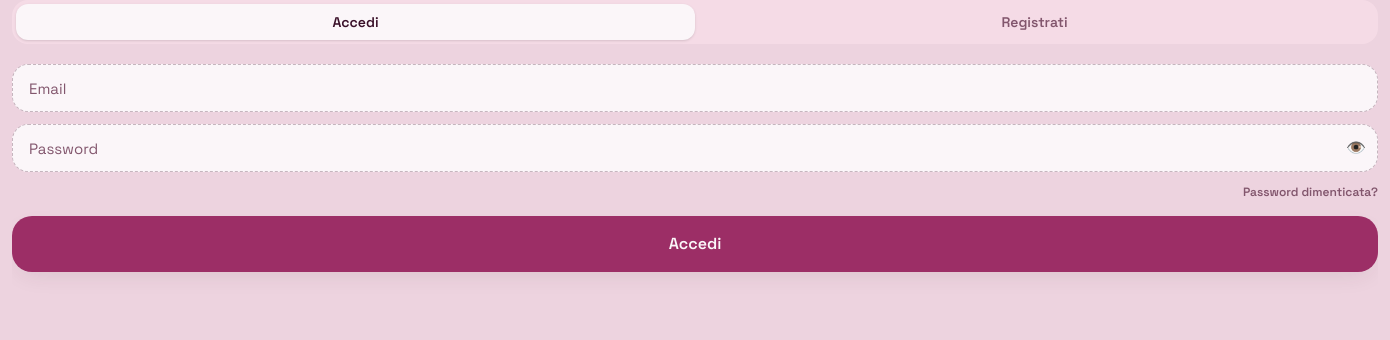
it: LoginForm — registrazione › se NON serve confermare l'email, mostra un messaggio di successo semplice
Click the button "Registrati".
click(1034, 22)  # box [695,4,1374,40]
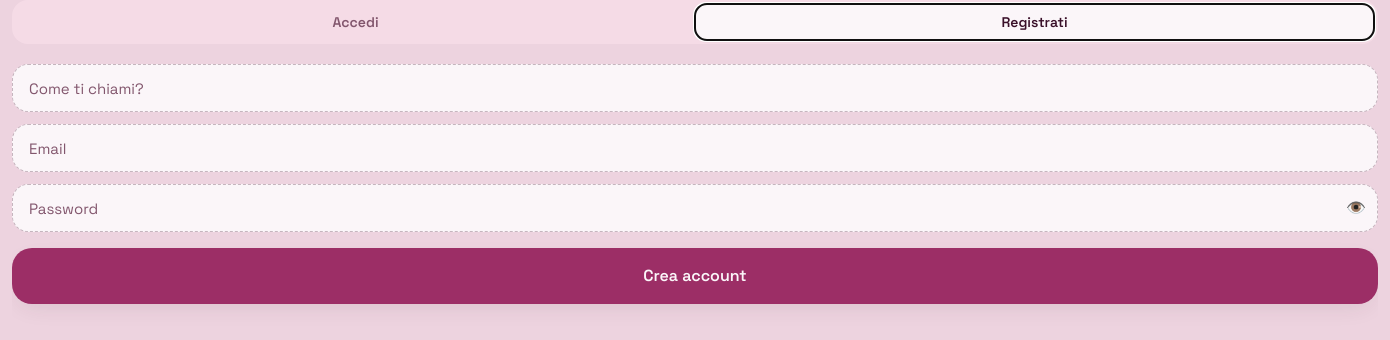
Type "Anna" into the field with placeholder "Come ti chiami?".
click(695, 88); type("Anna")  # box [12,64,1378,112]
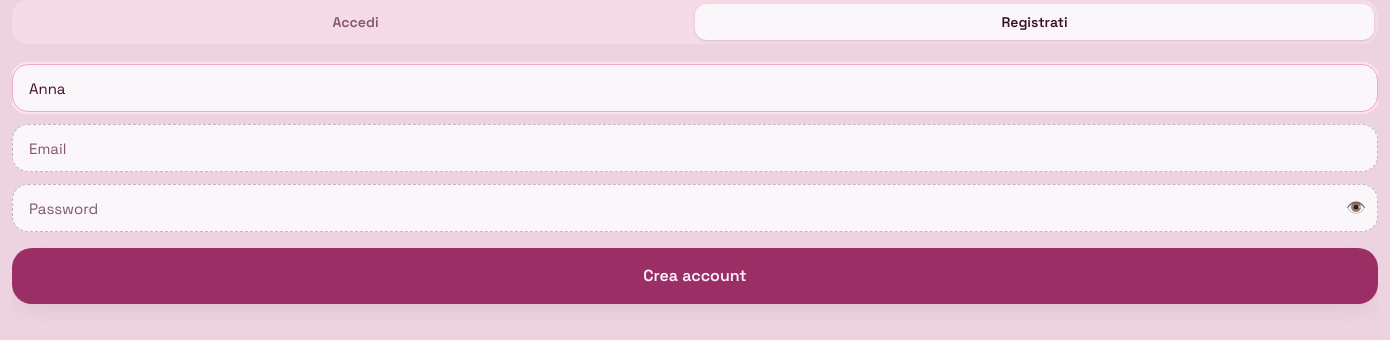
Type "a@b.com" into the field with placeholder "Email".
click(695, 148); type("a@b.com")  # box [12,124,1378,172]
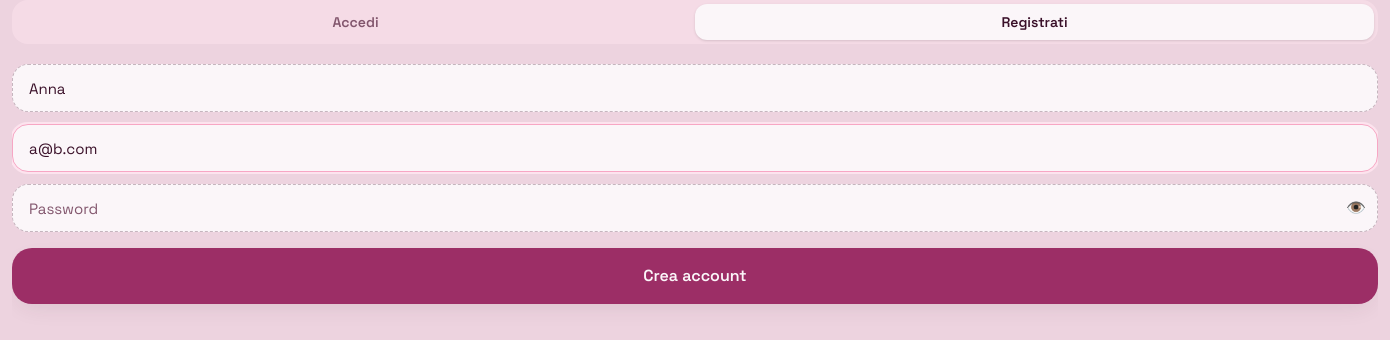
Type "Secret123" into the password field with placeholder "Password".
click(695, 208); type("Secret123")  # box [12,184,1378,232]
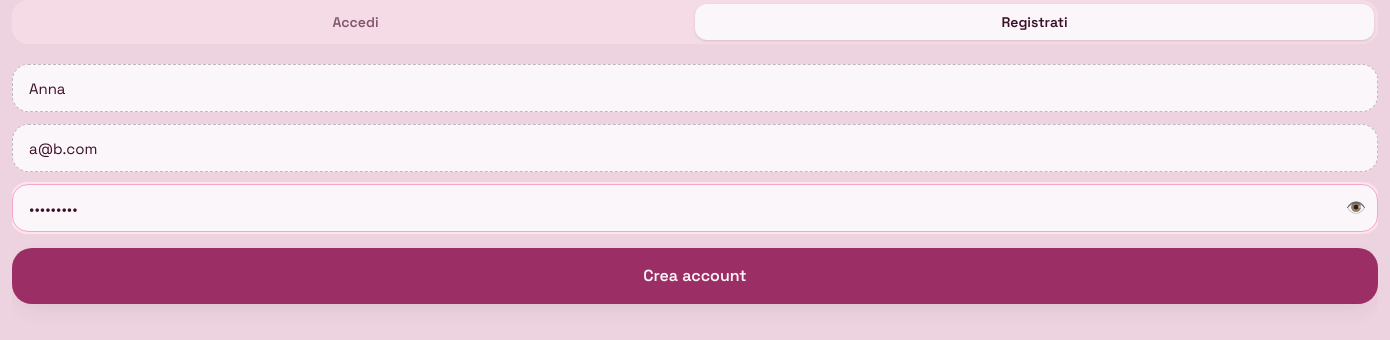
Click the button "Crea account".
click(695, 276)  # box [12,248,1378,304]
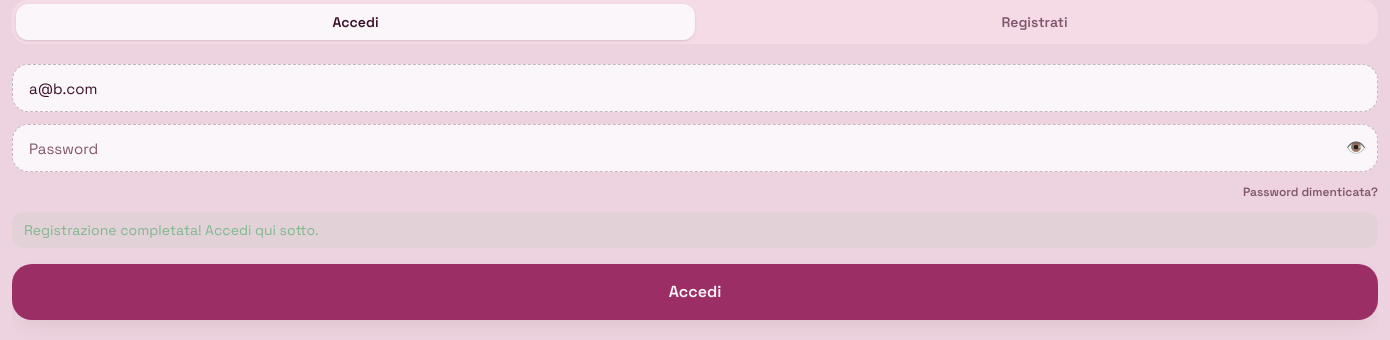
Now the text "Registrazione completata! Accedi qui sotto." is shown, box [12,212,1378,248]
